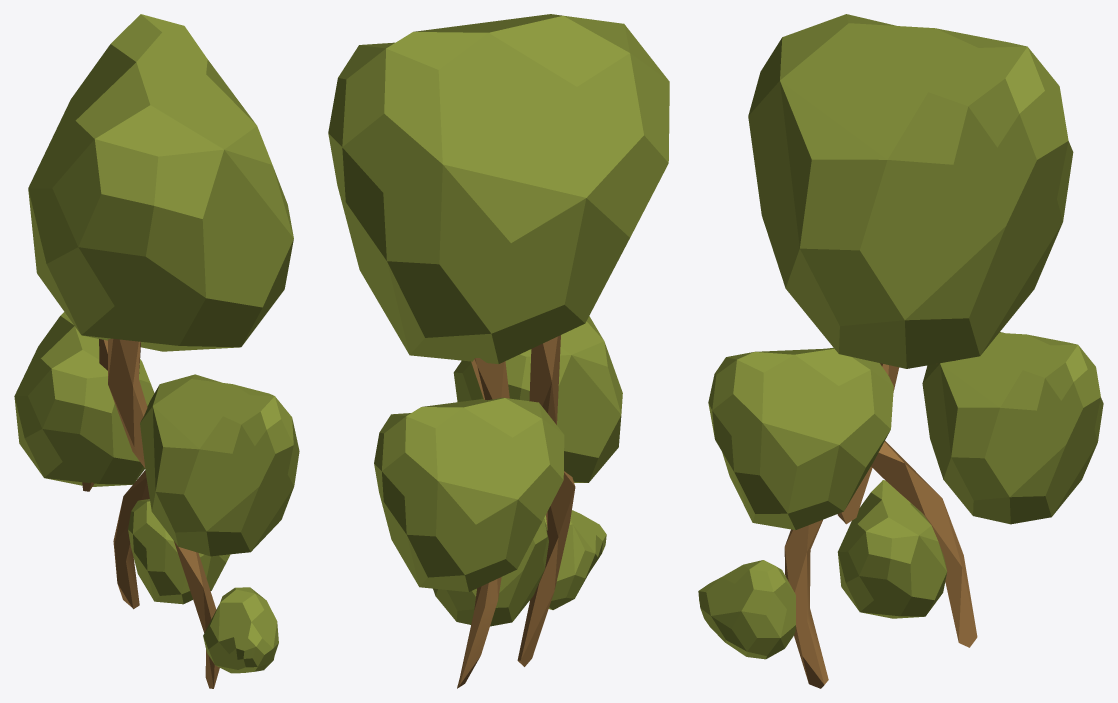
The model's file is ea_nature_tree_crow_04a_pre_lev1.glb.
3 renders of one model, left to right at view 1: azimuth 30°, elevation 25°; view 2: azimuth 150°, elevation 25°; view 3: azimuth 270°, elevation 25°, orthographic. The views are drawn at different scales.
Parts seen in each view (by area): view 1: ea_nature_tree_crow_04a_pre_lev1; view 2: ea_nature_tree_crow_04a_pre_lev1; view 3: ea_nature_tree_crow_04a_pre_lev1.
Part boxes in pixels (x1,y1,x2,y2): ea_nature_tree_crow_04a_pre_lev1: (14,14,299,688); ea_nature_tree_crow_04a_pre_lev1: (328,14,669,688); ea_nature_tree_crow_04a_pre_lev1: (698,14,1103,688).
Size of the model in its own units: 1.13 by 2.85 by 1.59.
Materials: 1 (1 with a texture image).
